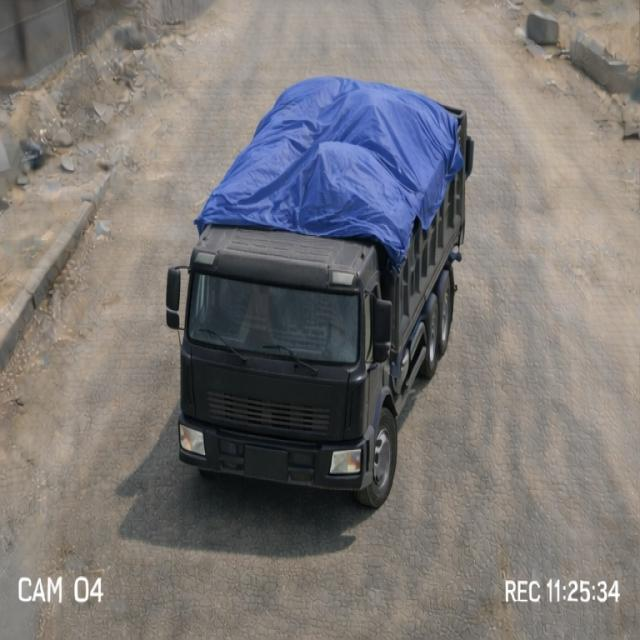trailer: (195, 75, 465, 263)
truck: (162, 65, 475, 506)
